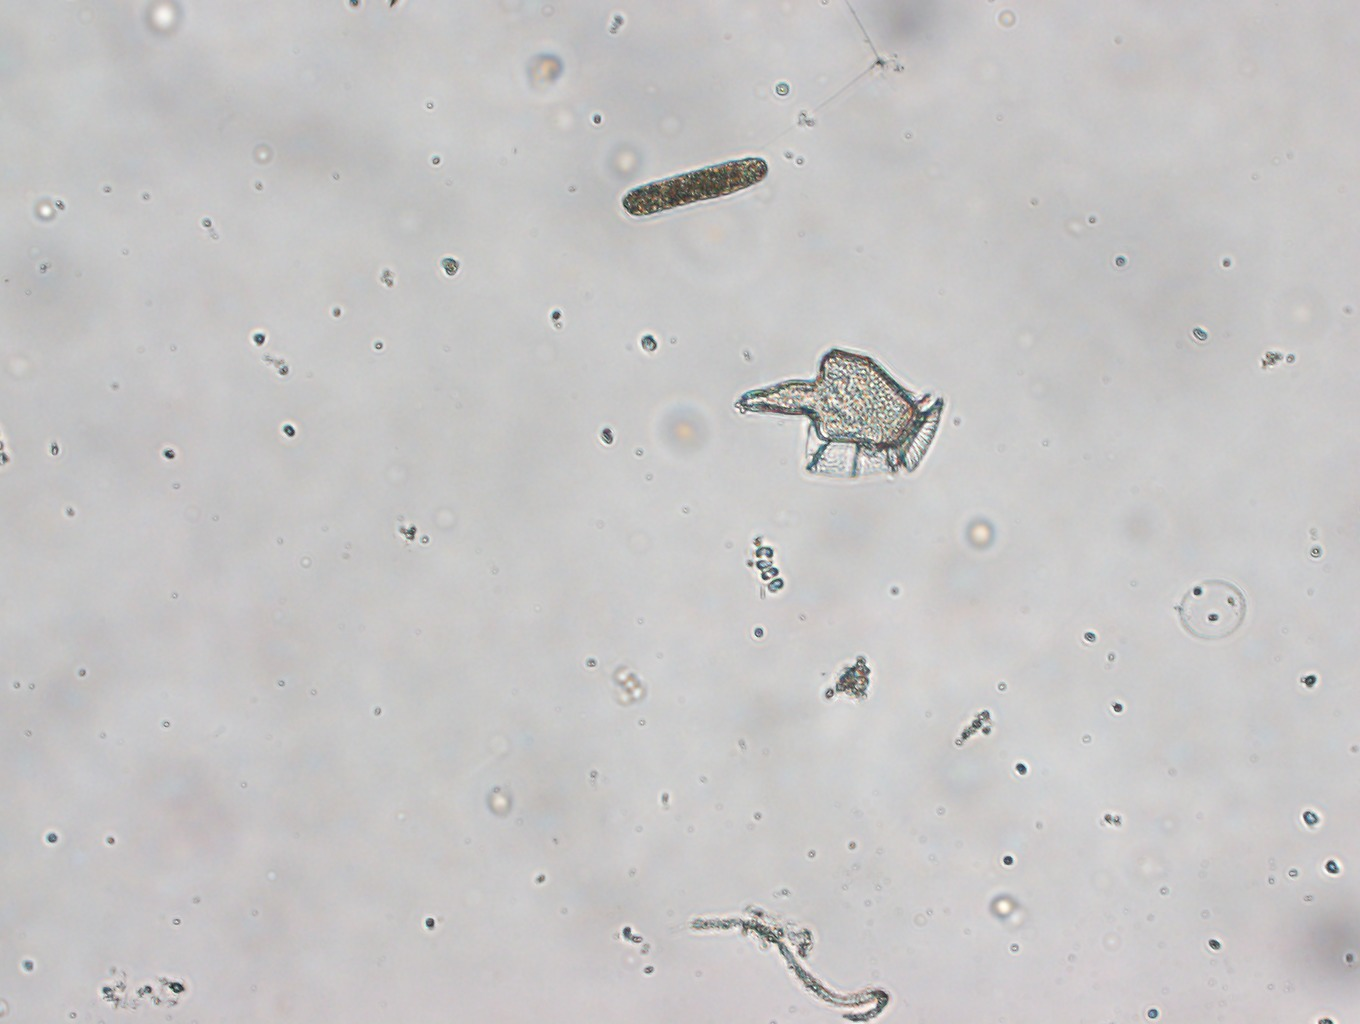dinophysis caudata: (731, 345, 944, 480)
